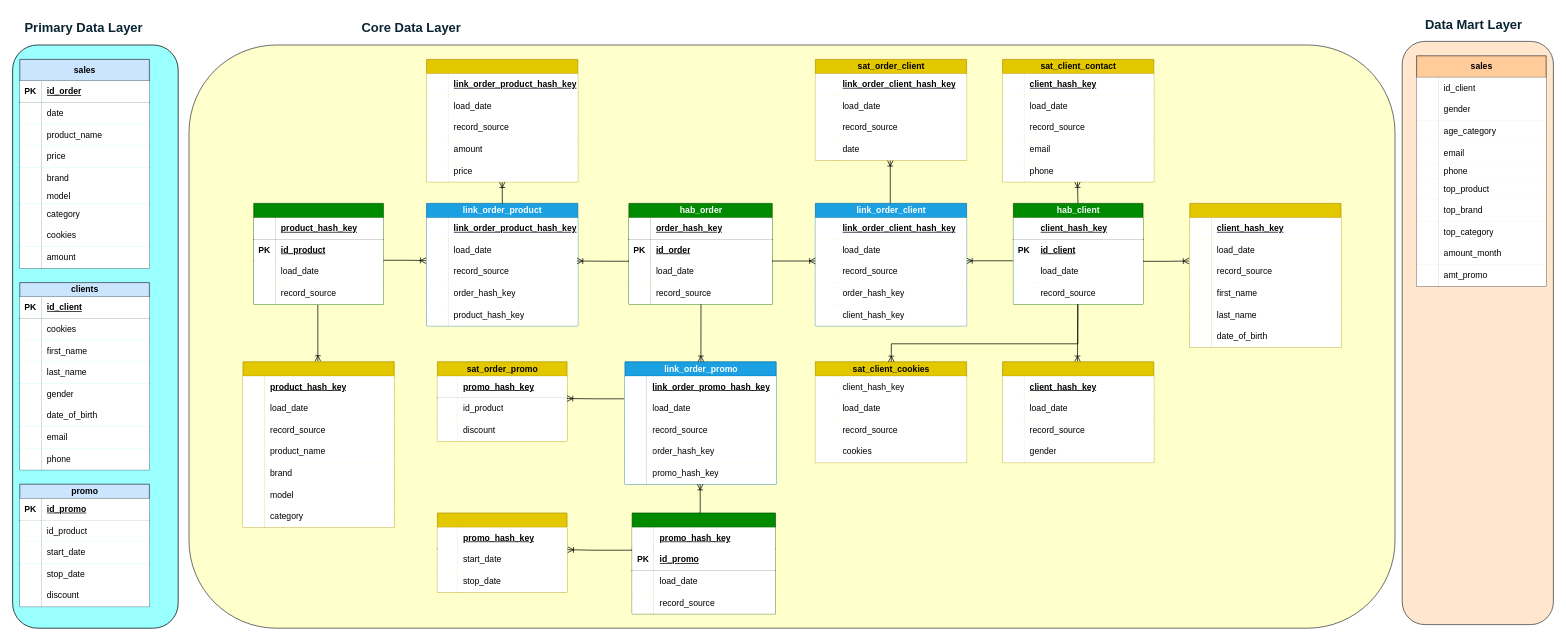
Some shapes in this 1566 by 641 pixel diagram are drawn without their labels. The shapes that lost their labels are listed below. From the top down, each one's box as (x1, y1, x2, y2) in pixels, then its label:
(426, 59, 578, 182): sat_order_product
(253, 203, 383, 304): hab_product
(1189, 203, 1341, 347): sat_client_personal
(1002, 361, 1154, 463): sat_client_gender
(242, 361, 394, 527): sat_product
(437, 512, 567, 592): sat_promo
(631, 512, 775, 614): hab_promo
